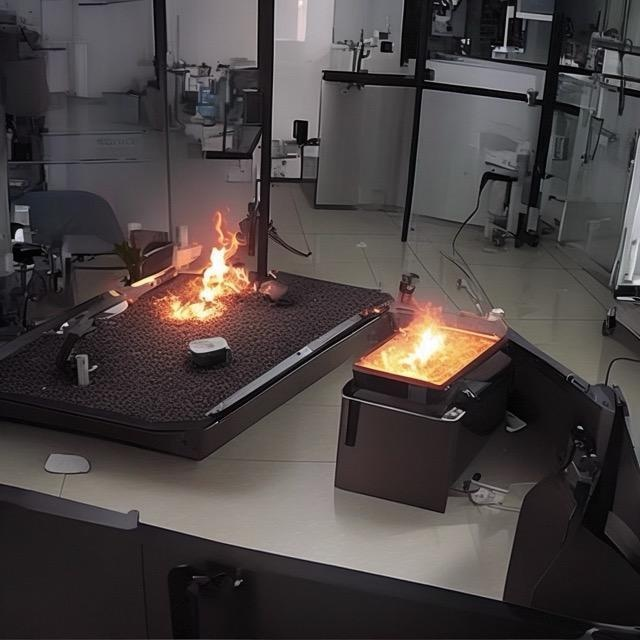fire: (368, 282, 494, 394), (163, 226, 270, 350)
